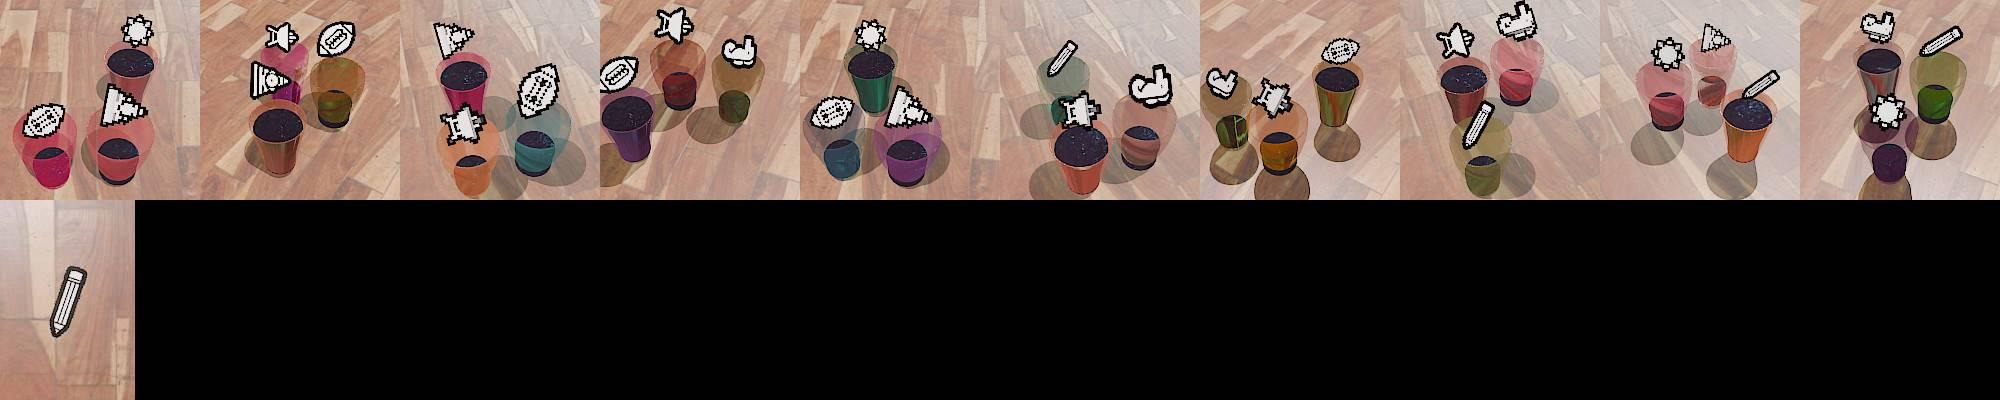icon: (49, 263, 89, 339), (516, 63, 561, 118), (1128, 61, 1174, 109), (101, 82, 150, 126), (883, 85, 932, 128), (440, 103, 486, 145), (1251, 77, 1294, 120), (249, 60, 295, 100), (1495, 0, 1538, 42), (1057, 90, 1104, 128), (1462, 97, 1495, 150), (433, 21, 476, 59), (597, 56, 640, 94), (1436, 21, 1476, 60), (23, 103, 67, 138), (1918, 25, 1963, 58), (655, 6, 694, 44), (1868, 93, 1907, 130), (1739, 68, 1780, 103), (318, 21, 356, 58), (721, 33, 759, 68), (264, 21, 301, 54), (1048, 39, 1079, 78), (1650, 36, 1684, 71), (1318, 36, 1359, 65), (1860, 11, 1897, 43), (121, 15, 154, 49), (1205, 67, 1239, 100), (852, 19, 887, 51), (813, 97, 851, 126), (1699, 22, 1730, 53)
